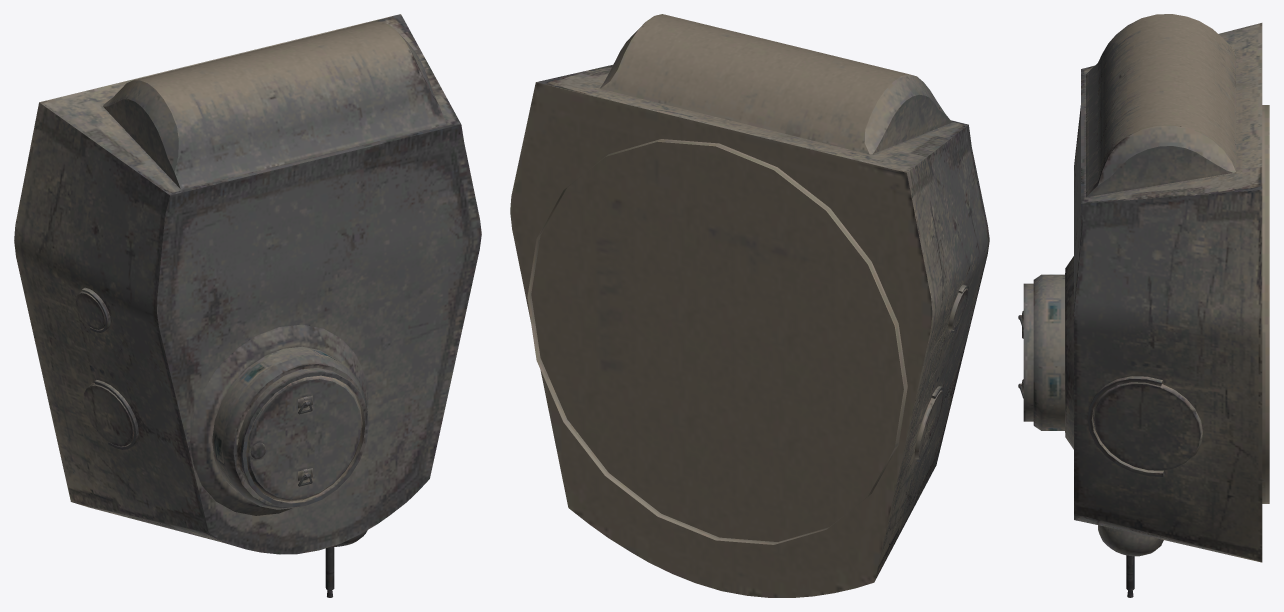
File: Turret_01.glb
3 views of the same model, side by side, from view 1: azimuth 30°, elevation 25°; view 2: azimuth 150°, elevation 25°; view 3: azimuth 270°, elevation 25° (orthographic). The views are drawn at different scales.
Parts seen in each view (by area): view 1: set_0_group_0; view 2: set_0_group_0; view 3: set_0_group_0.
Part boxes in pixels (bbox=[...]): set_0_group_0: bbox=[14, 14, 481, 597]; set_0_group_0: bbox=[510, 14, 989, 597]; set_0_group_0: bbox=[1018, 14, 1269, 597].
Bounding box in the file's own units: 2.15 × 2.67 × 1.2.
Materials: 1 (1 with a texture image).
